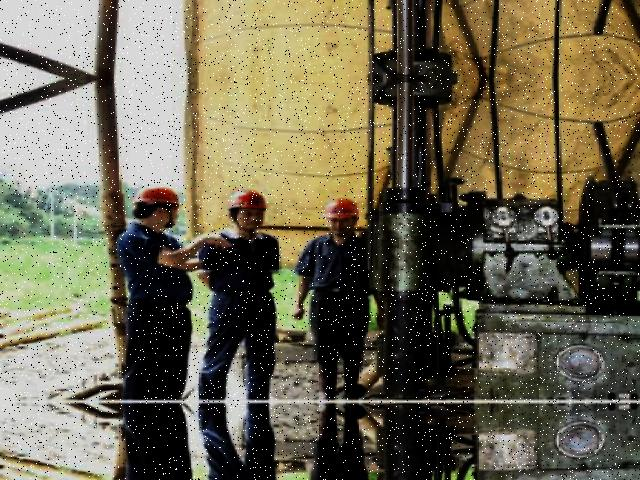Helmet: (128, 181, 188, 212), (220, 185, 272, 219), (322, 193, 366, 224)
